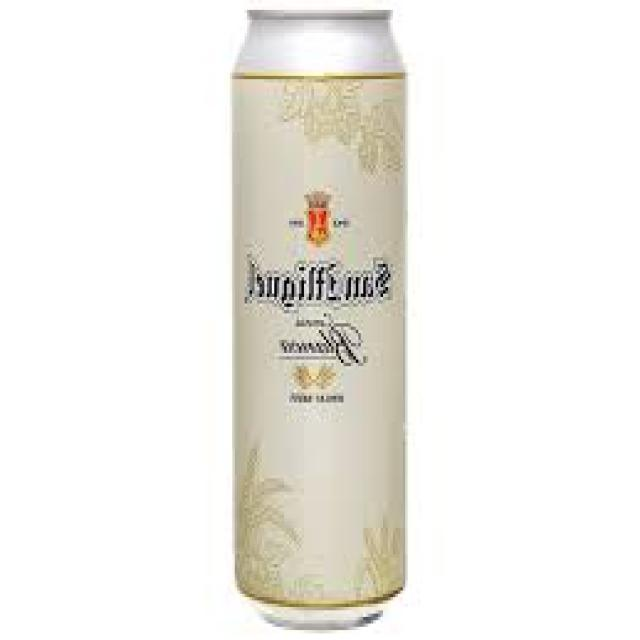metal: (231, 11, 408, 630)
